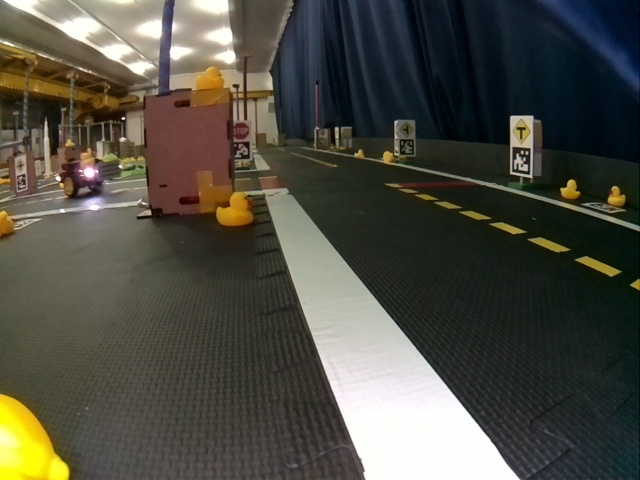Duckie: (216, 193, 250, 226), (197, 67, 222, 88), (560, 179, 579, 199), (0, 211, 15, 234), (609, 186, 625, 204), (384, 152, 394, 162), (354, 149, 363, 158)
Duckiebot: (57, 157, 123, 198)
Intersection sign: (511, 119, 531, 144), (398, 121, 415, 135)
QR code: (512, 146, 530, 176), (584, 203, 624, 213), (233, 141, 251, 158), (398, 140, 414, 155), (17, 175, 27, 189)
Stop sign: (232, 122, 251, 139)
